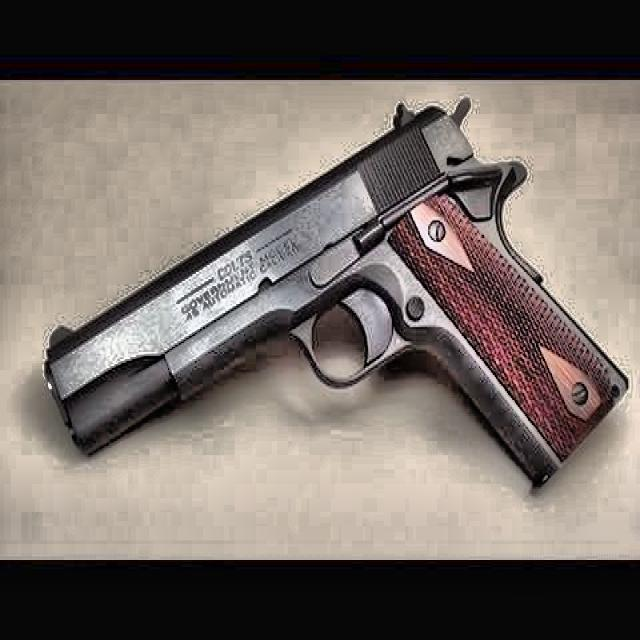Colt m1911: (41, 94, 630, 491)
